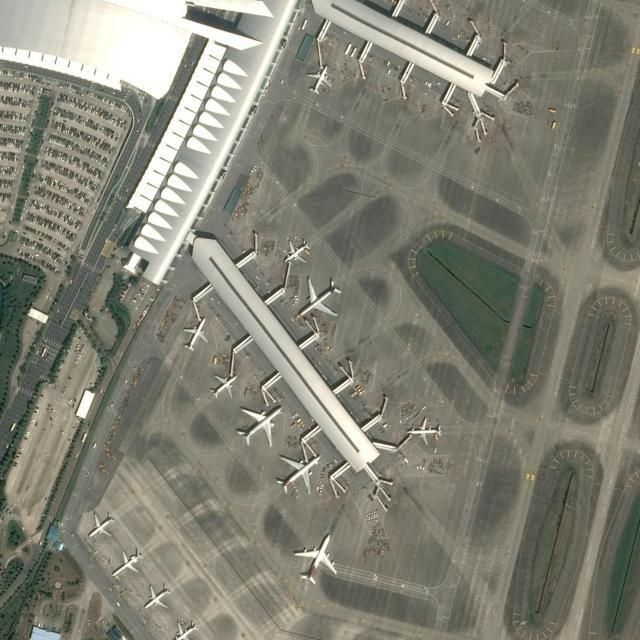Aircraft: (292, 532, 338, 584), (297, 276, 343, 320), (274, 454, 322, 494), (234, 406, 282, 446), (408, 417, 442, 444), (182, 315, 207, 351), (111, 550, 143, 576), (84, 512, 114, 538), (143, 585, 172, 611), (281, 239, 311, 264), (307, 64, 332, 94), (208, 372, 236, 398), (171, 621, 200, 640)
